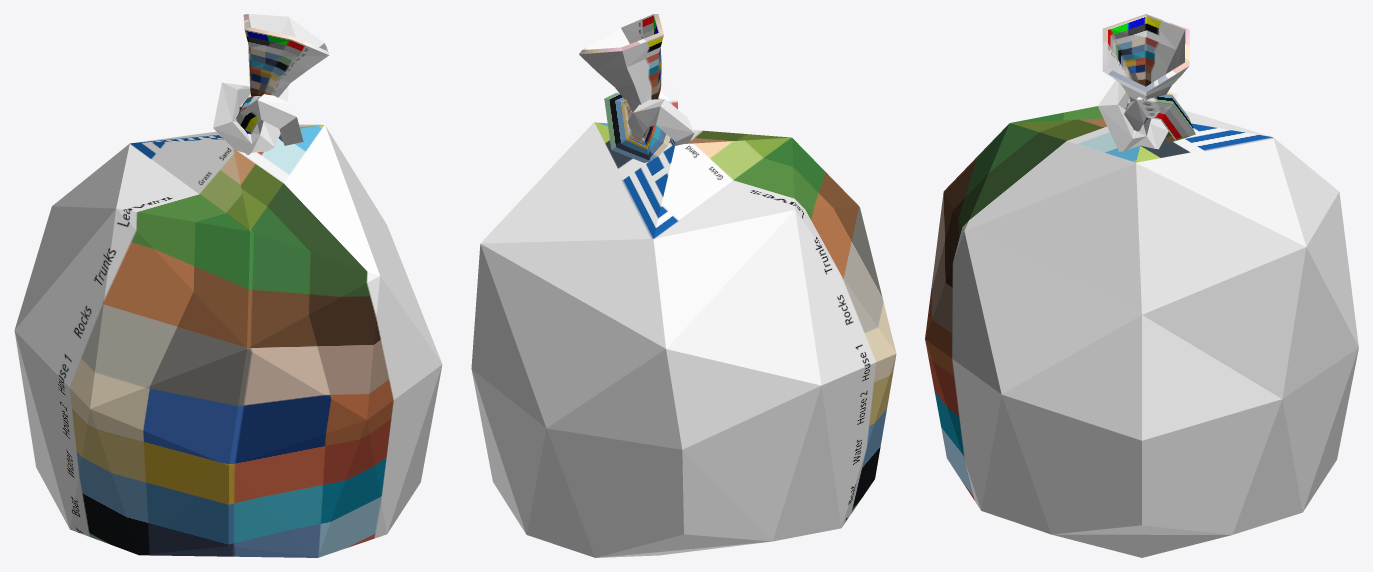
File: trashbag_03.fbx
3 views of the same model, side by side, from view 1: azimuth 30°, elevation 25°; view 2: azimuth 150°, elevation 25°; view 3: azimuth 270°, elevation 25° (orthographic). The views are drawn at different scales.
Parts seen in each view (by area): view 1: trashbag_03, trashbag_03_knot; view 2: trashbag_03, trashbag_03_knot; view 3: trashbag_03, trashbag_03_knot.
Part boxes in pixels (x1,y1,x2,y2): trashbag_03: [14, 124, 442, 557]; trashbag_03_knot: [213, 14, 329, 154]; trashbag_03: [471, 122, 896, 557]; trashbag_03_knot: [579, 14, 694, 162]; trashbag_03: [925, 106, 1358, 557]; trashbag_03_knot: [1098, 14, 1195, 151].
Size of the model in its own units: 75.91 by 96.79 by 76.33.
Materials: 1 (1 with a texture image).
